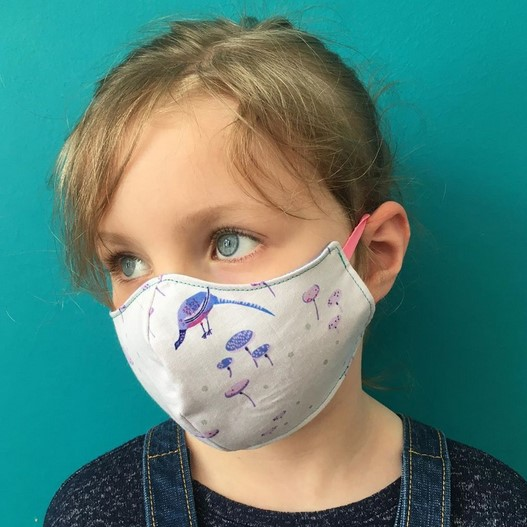face_with_mask: (70, 20, 406, 453)
